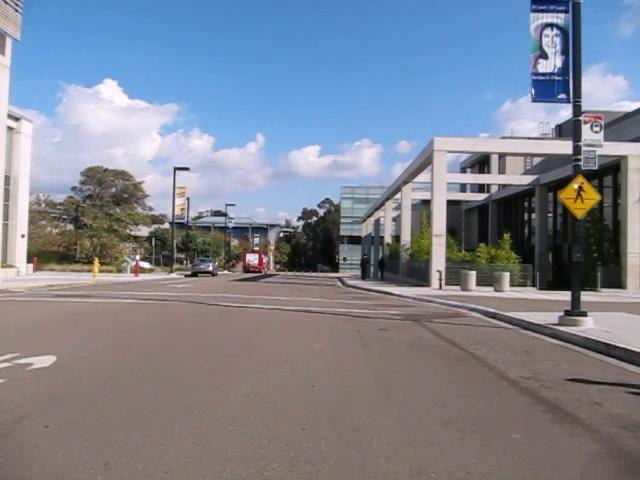pedestrianCrossing: (556, 172, 602, 219)
